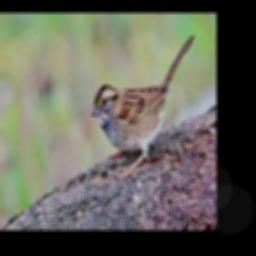Sparrow: (92, 35, 196, 178)
